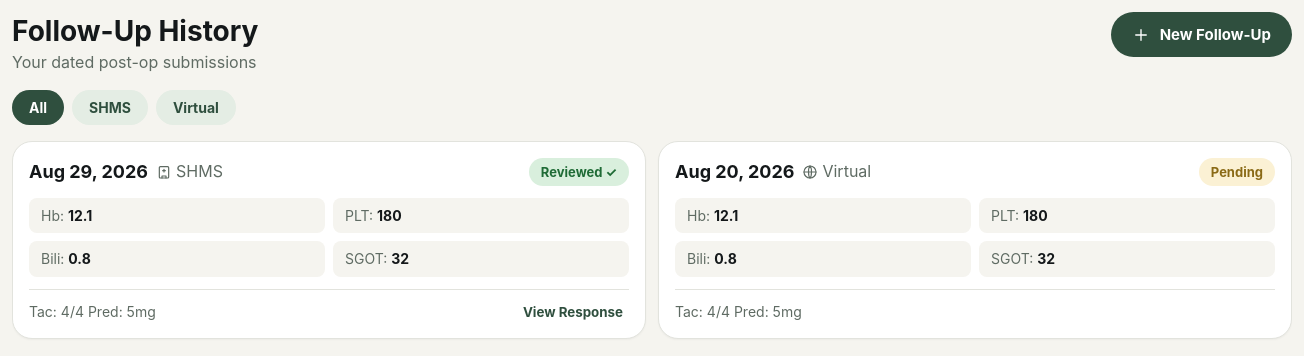
Test: FollowUpHistoryPage › renders rows with status pills and a per-hospital filter
Expected: the text "Reviewed ✓" is shown, [529,158,629,186]
Expected: the text "Pending" is shown, [1199,158,1275,186]
# Filter chips: All + the two hospitals.
Click the button "Virtual". click: (196, 107)
box: [156,90,236,125]
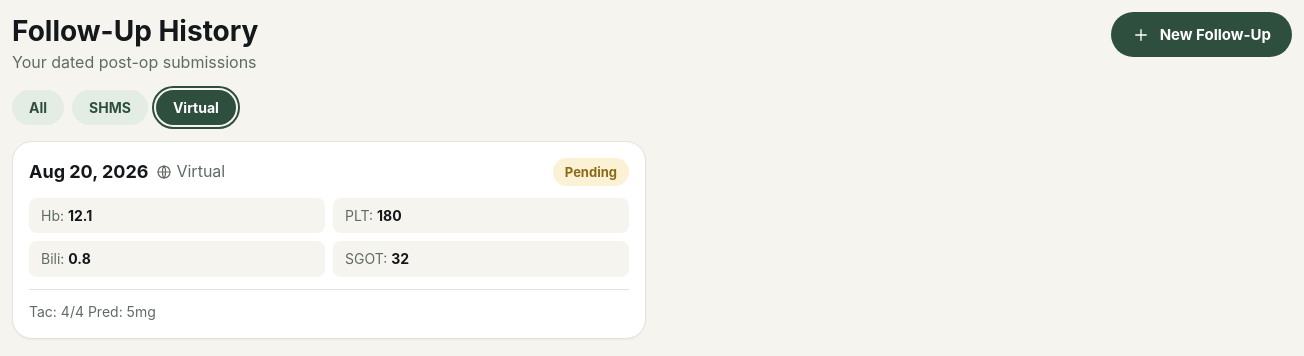
Expected: the text "Pending" is shown, [553,158,629,186]
Now the text "Reviewed" is gone
